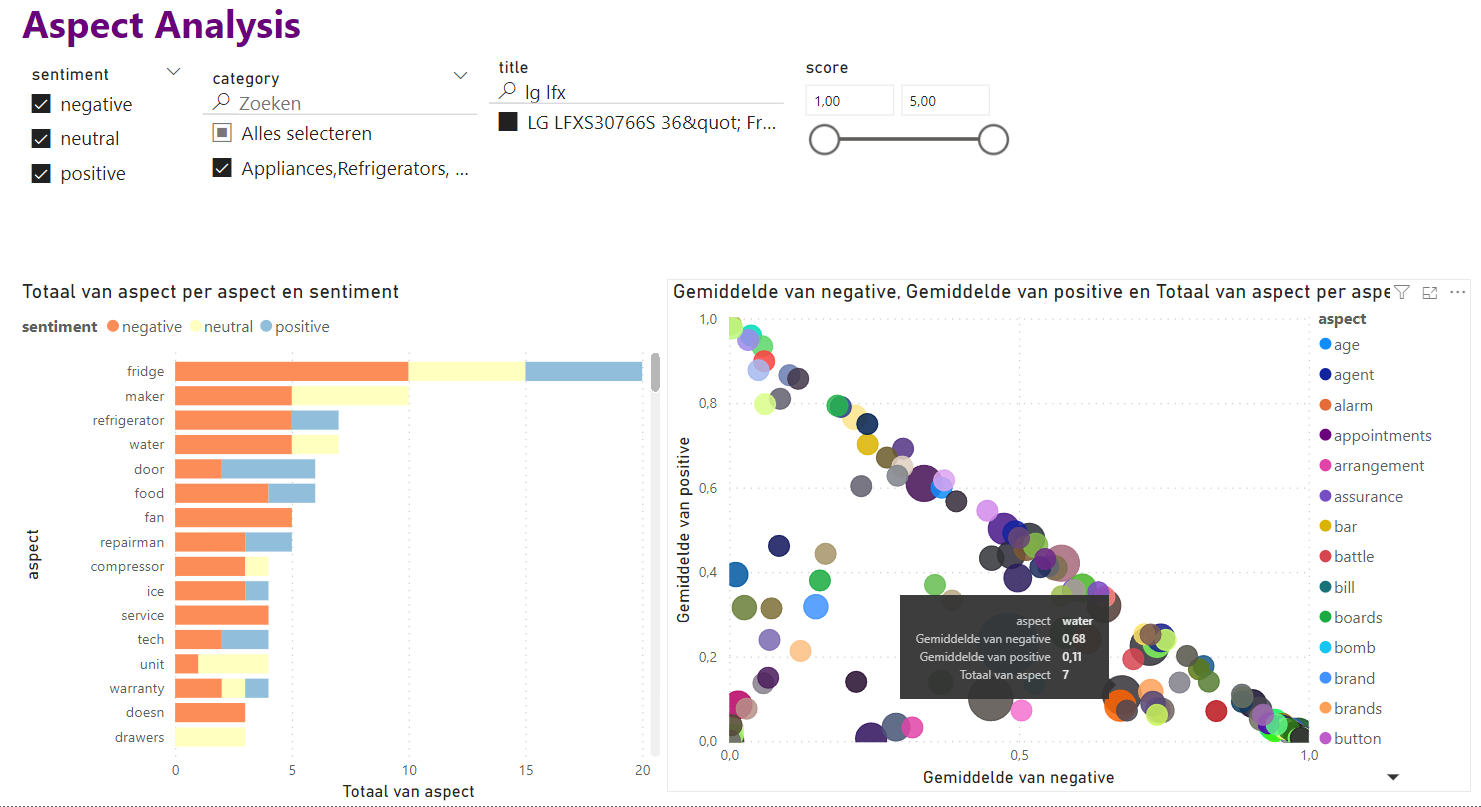

What the dashboard file says about the page in this screenshot:
{"tool":"powerbi","page":{"name":"Aspect Analysis","canvas":[1280,720],"ordinal":1},"visuals":[{"type":"barChart","fields":{"Category":["result_df.aspect","result_df.text"],"Y":["CountNonNull(result_df.aspect)"],"Series":["result_df.sentiment"]},"box":[31.9,279.5,543.4,440.8],"z":0},{"type":"slicer","fields":{"Values":["meta_df.category"]},"box":[847.9,46.6,239.8,181.1],"z":1000},{"type":"textbox","box":[32,38.2,257,56.8],"z":5000},{"type":"slicer","fields":{"Values":["meta_df.title"]},"box":[505.4,46.6,256.2,189.8],"z":6001},{"type":"scatterChart","fields":{"X":["Avg(result_df.negative)"],"Series":["result_df.aspect"],"Y":["Avg(result_df.positive)"],"Size":["CountNonNull(result_df.aspect)"]},"box":[575.3,279.5,671.9,428.7],"z":6002}]}

Visuals, with their boxes on the page's 1280x720 design canvas (x1, y1, x2, y2). These are canvas units, not pixel positions in the 1481x807 screenshot, which may show the page scaled, cropped or inside an application window:
barChart - result_df.aspect x result_df.text: [32,280,575,720]
slicer - meta_df.category: [848,47,1088,228]
textbox: [32,38,289,95]
slicer - meta_df.title: [505,47,762,236]
scatterChart - Avg(result_df.negative) x result_df.aspect: [575,280,1247,708]
